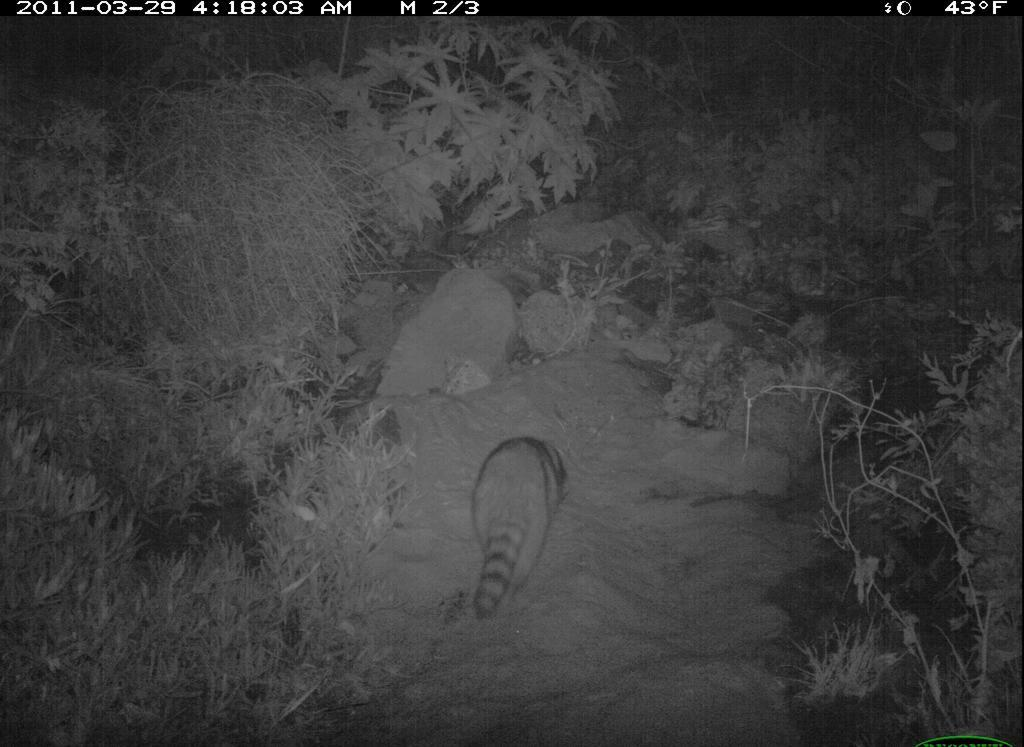raccoon: (472, 431, 570, 625)
